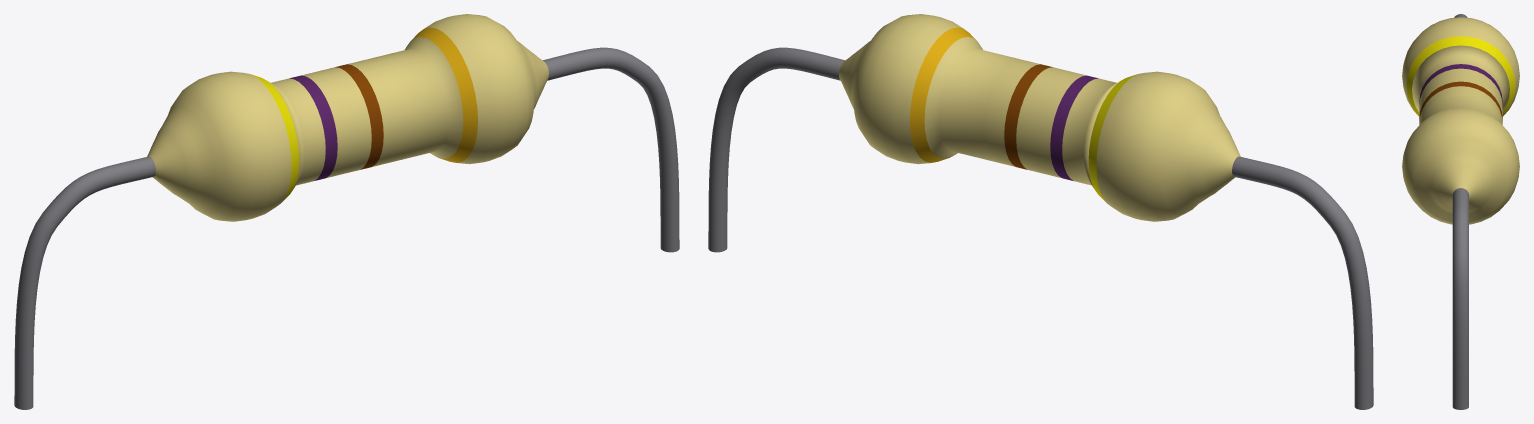
File: Prefab_Resistor470.fbx
The picture shows the model from 3 angles, left to right: view 1: azimuth 30°, elevation 25°; view 2: azimuth 150°, elevation 25°; view 3: azimuth 270°, elevation 25°; orthographic projection. The views are drawn at different scales.
Visible parts, largest first — view 1: Resistor, Patas, Tolerancia, 2Cifra, 3Cifra, 1Cifra; view 2: Resistor, Patas, Tolerancia, 3Cifra, 2Cifra, 1Cifra; view 3: Resistor, Patas, 1Cifra, 3Cifra, 2Cifra.
Part boxes in pixels (<box>): Resistor: <box>147,14,548,221</box>; Patas: <box>14,47,679,409</box>; Tolerancia: <box>411,27,477,162</box>; 2Cifra: <box>289,75,337,180</box>; 3Cifra: <box>335,64,383,169</box>; 1Cifra: <box>251,74,299,201</box>; Resistor: <box>839,14,1240,221</box>; Patas: <box>708,47,1373,409</box>; Tolerancia: <box>910,27,976,162</box>; 3Cifra: <box>1004,64,1052,169</box>; 2Cifra: <box>1050,75,1098,180</box>; 1Cifra: <box>1088,74,1136,201</box>; Resistor: <box>1402,17,1519,224</box>; Patas: <box>1452,14,1468,409</box>; 1Cifra: <box>1406,36,1515,116</box>; 3Cifra: <box>1419,81,1502,121</box>; 2Cifra: <box>1419,64,1502,104</box>.
Bounding box in the file's own units: 27.27 × 55.36 × 139.
